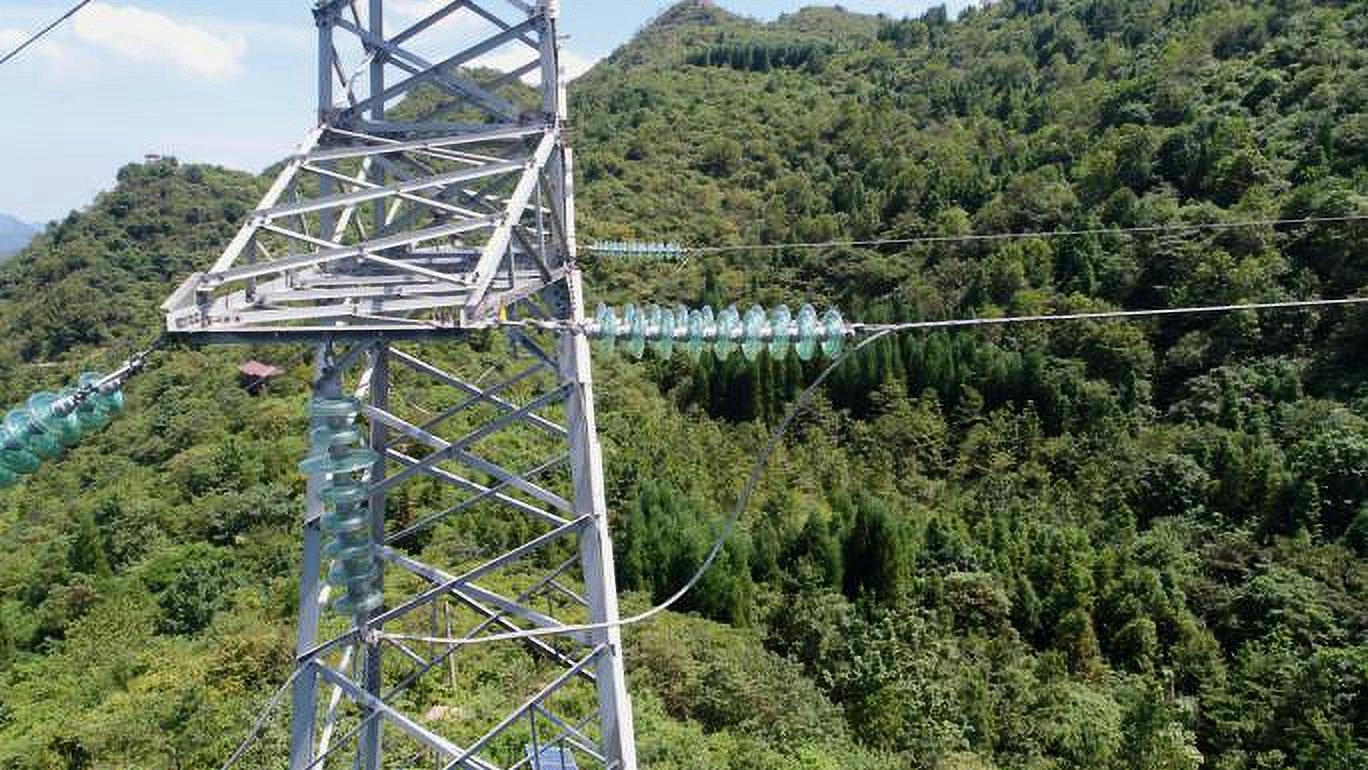insulator: (295, 391, 389, 620), (593, 299, 852, 366), (1, 363, 129, 490), (590, 235, 686, 266)
